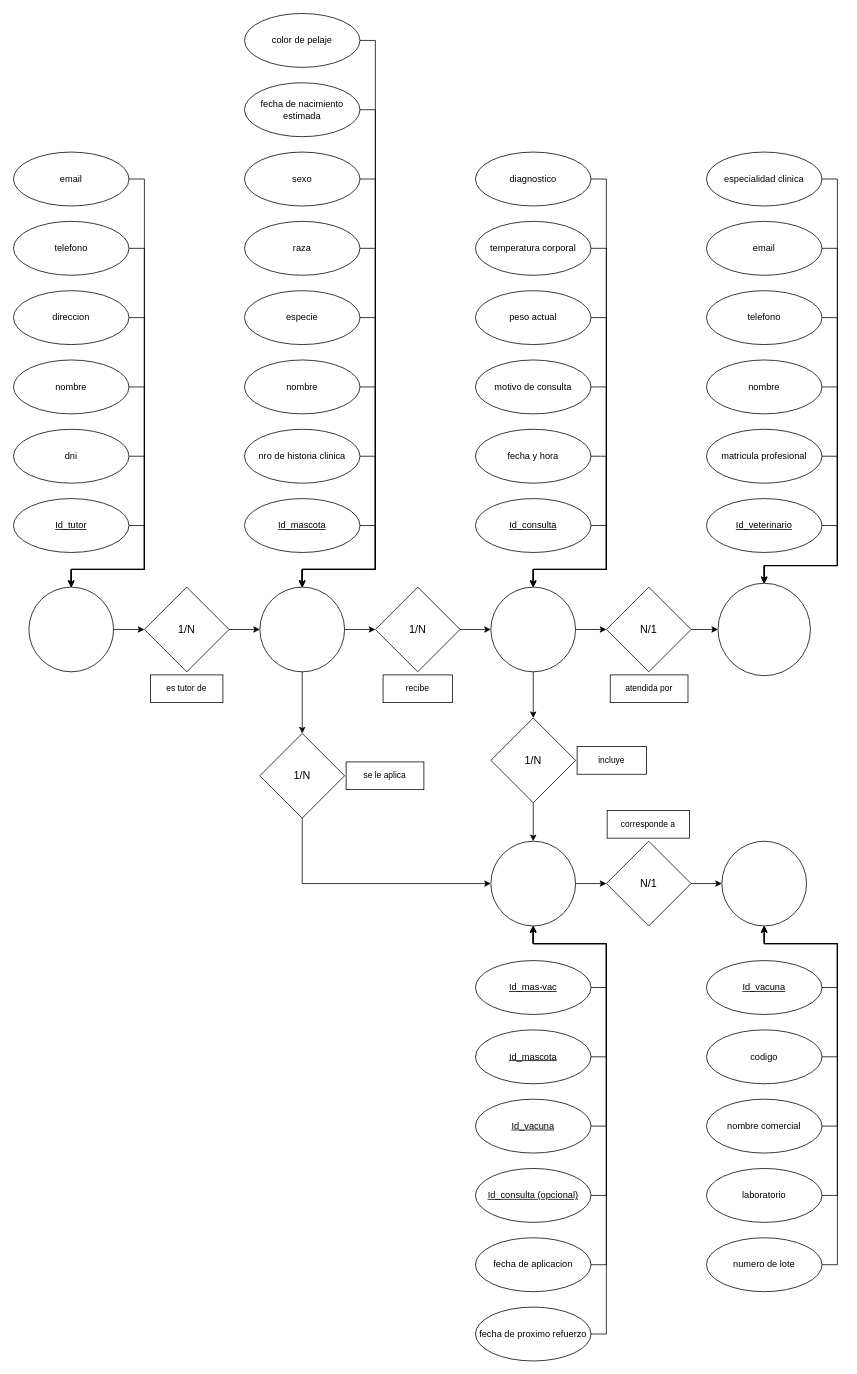
The diagram is 857 pixels wide and 1374 high, and some of its shapes have lost their labels. The shapes that lost their labels are listed below. From the top down, each one's box as (x1, y1, x2, y2) in pixels, then its label:
(28, 586, 114, 672): TUTOR
(259, 586, 345, 672): MASCOTA
(490, 586, 576, 672): CONSULTA
(717, 583, 810, 676): VETERINARIO
(490, 840, 576, 926): MAS-VAC
(721, 840, 807, 926): VACUNA
